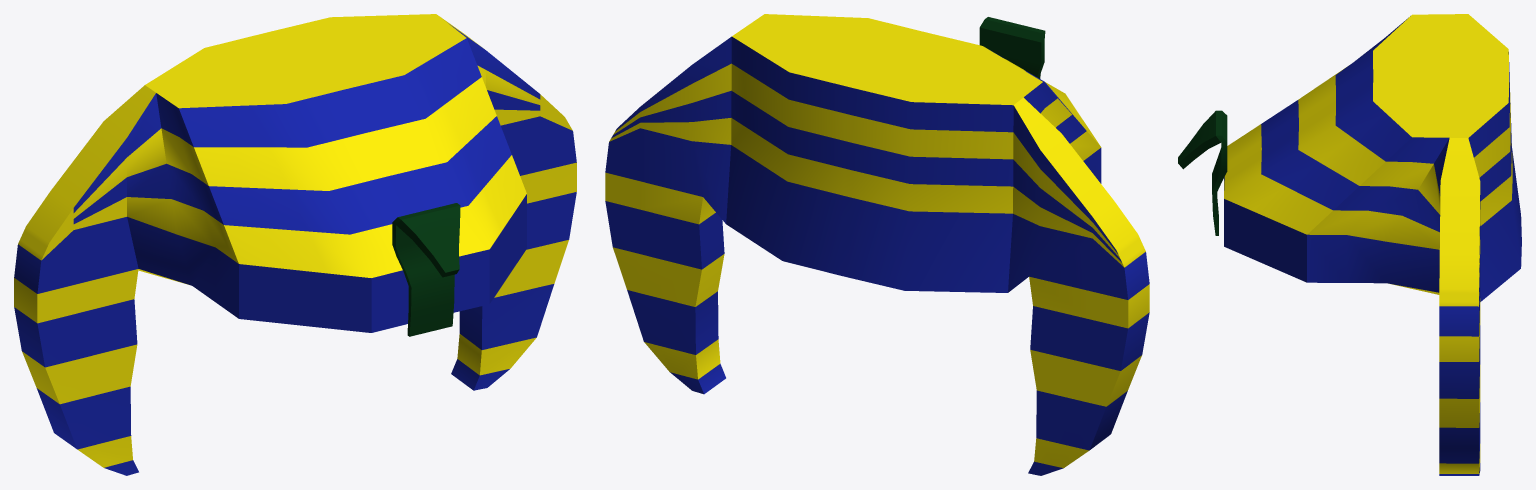
The model's file is ChapeuEgipcio.fbx.
The picture shows the model from 3 angles, left to right: view 1: azimuth 30°, elevation 25°; view 2: azimuth 150°, elevation 25°; view 3: azimuth 270°, elevation 25°; orthographic projection. The views are drawn at different scales.
Parts seen in each view (by area): view 1: ChapeuEgipcio; view 2: ChapeuEgipcio; view 3: ChapeuEgipcio.
Part boxes in pixels (x1=…): ChapeuEgipcio: x1=14, y1=14, x2=576, y2=475; ChapeuEgipcio: x1=605, y1=14, x2=1149, y2=475; ChapeuEgipcio: x1=1178, y1=14, x2=1521, y2=475.
Bounding box in the file's own units: 349 × 229 × 221.
